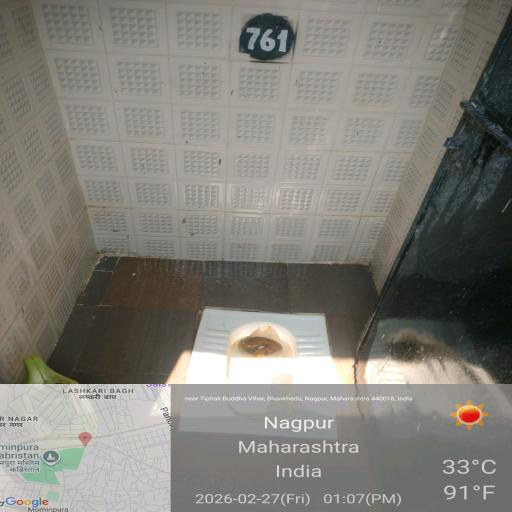clean_floor: (40, 22, 454, 218)
dirty_indian: (186, 314, 347, 438)
partial_dirty_floor: (75, 264, 411, 510)
